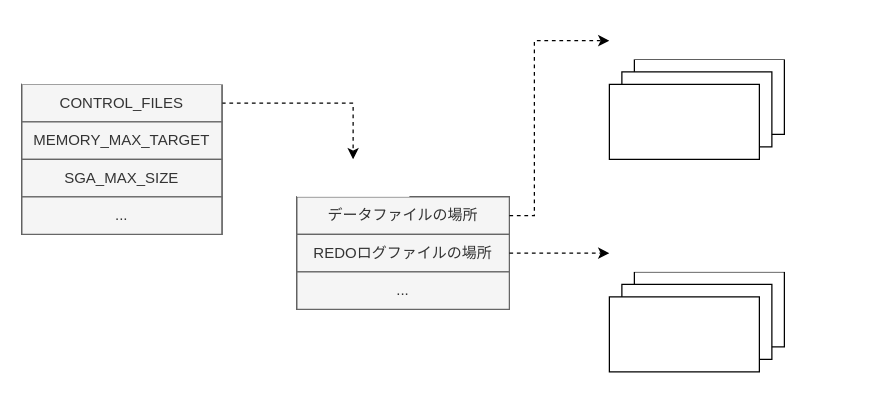
Some shapes in this 894 by 394 pixel diagram are drawn without their labels. The shapes that lost their labels are listed below. From the top down, each one's centre as x and y in pixels, then its label:
At (x=171, y=56): "初期化パラメタファイル $ORACLE_HOME/dbs/spfile<SID>.ora".
At (x=740, y=40): "データファイル $ORACLE_BASE/oradata/<SID>/".
At (x=352, y=177): "制御ファイル".
At (x=727, y=252): "REDOログファイル $ORACLE_BASE/oradata/<SID>/".
